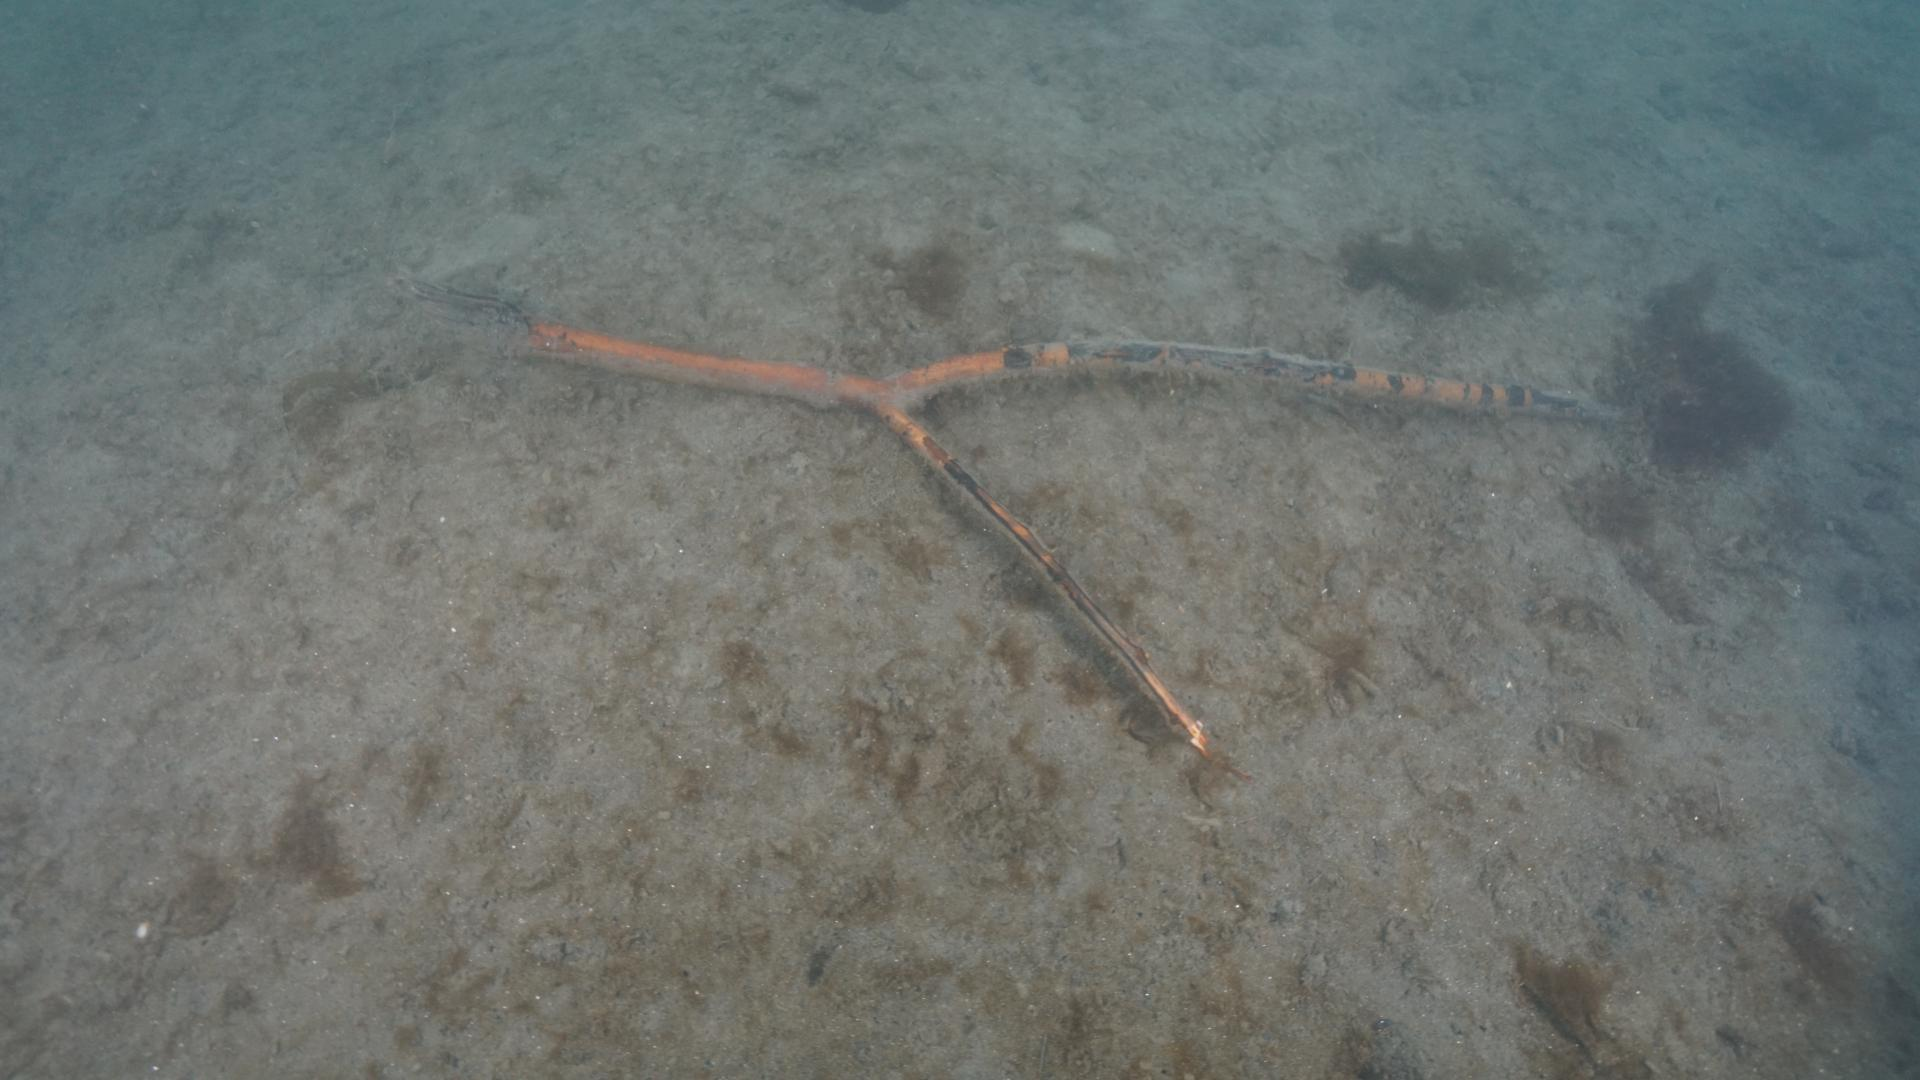wood: (392, 266, 1622, 765)
